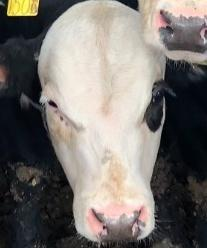muzzles: (69, 197, 163, 248)
